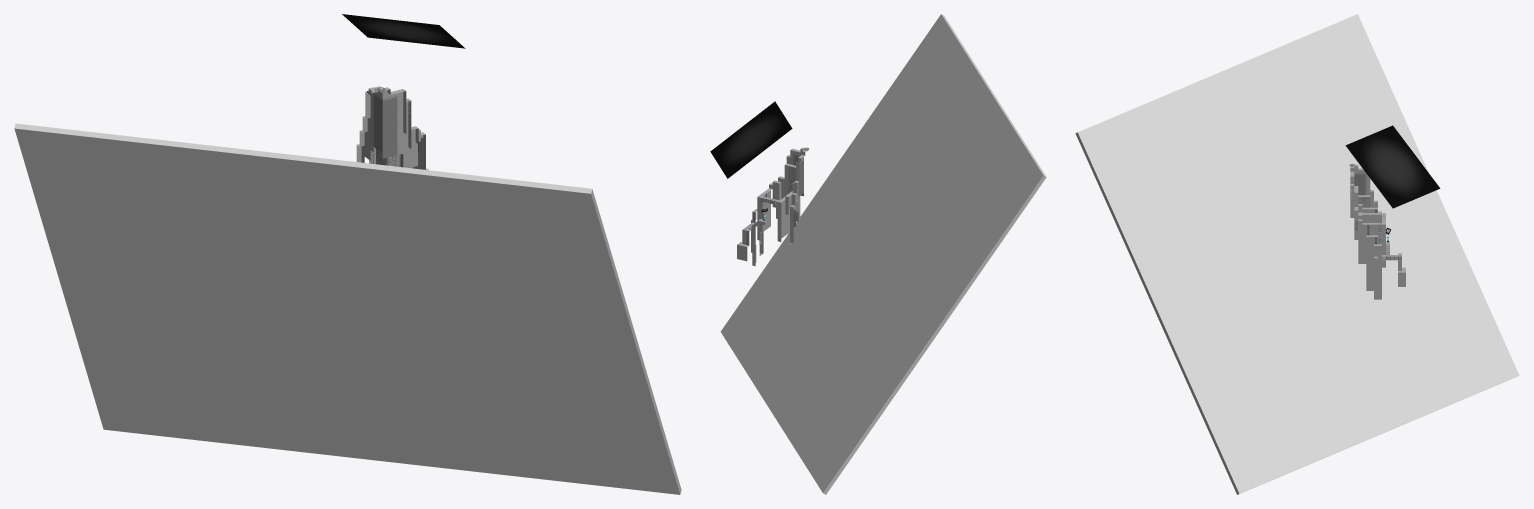
File: Cave.fbx
3 renders of one model, left to right at view 1: azimuth 30°, elevation 25°; view 2: azimuth 150°, elevation 25°; view 3: azimuth 270°, elevation 25°, orthographic. The views are drawn at different scales.
Visible parts, largest first — view 1: Background, _Combined_VisChild_Draggers_Cave_Mat, CaveLight; view 2: Background, CaveLight, _Combined_VisChild_Draggers_Cave_Mat, _Combined_VisChild_Draggers_Cave_Mat2; view 3: Background, CaveLight, _Combined_VisChild_Draggers_Cave_Mat, _Combined_VisChild_Draggers_Cave_Mat2.
Boxes of the visible parts, x1,y1,x2,y2 form: Background: (14,123,681,494); _Combined_VisChild_Draggers_Cave_Mat: (356,86,425,169); CaveLight: (342,14,465,48); Background: (720,14,1046,494); CaveLight: (710,101,792,178); _Combined_VisChild_Draggers_Cave_Mat: (757,147,809,245); _Combined_VisChild_Draggers_Cave_Mat2: (737,219,766,261); Background: (1075,14,1519,494); CaveLight: (1345,125,1440,208); _Combined_VisChild_Draggers_Cave_Mat: (1349,163,1385,267); _Combined_VisChild_Draggers_Cave_Mat2: (1366,235,1377,290).
Bounding box in the file's own units: 112 × 82.98 × 112.
13 materials, 12 textured.
